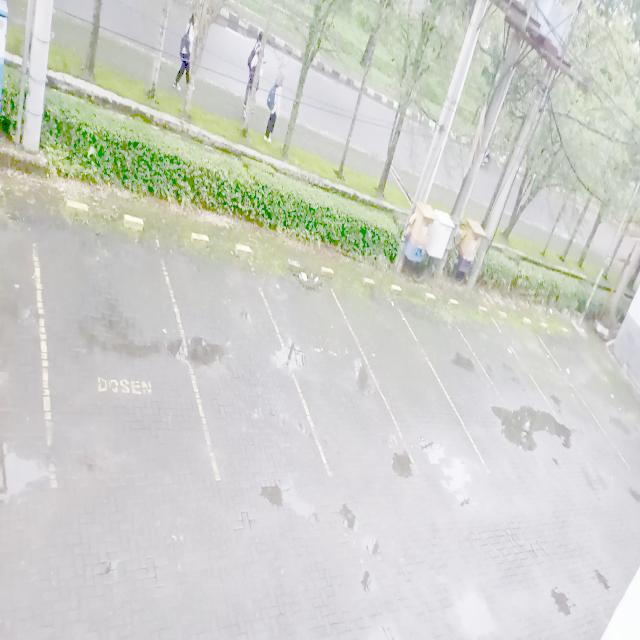empty: (38, 201, 198, 488), (181, 227, 289, 483), (283, 258, 369, 476), (370, 278, 438, 458), (478, 302, 545, 472), (436, 294, 496, 470)
